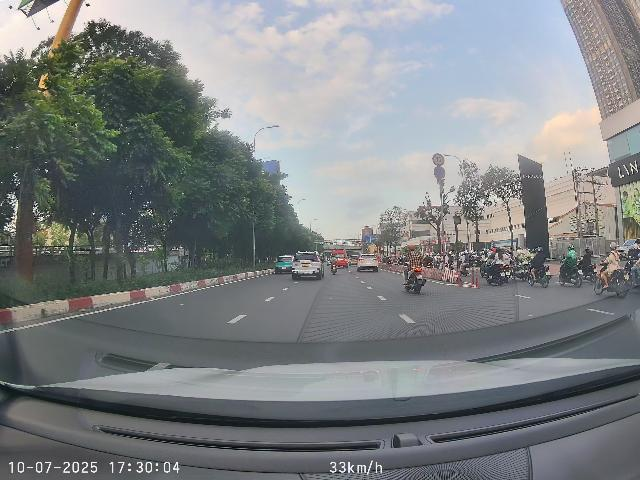127-toc-do-toi-da-70: (432, 153, 444, 166)
